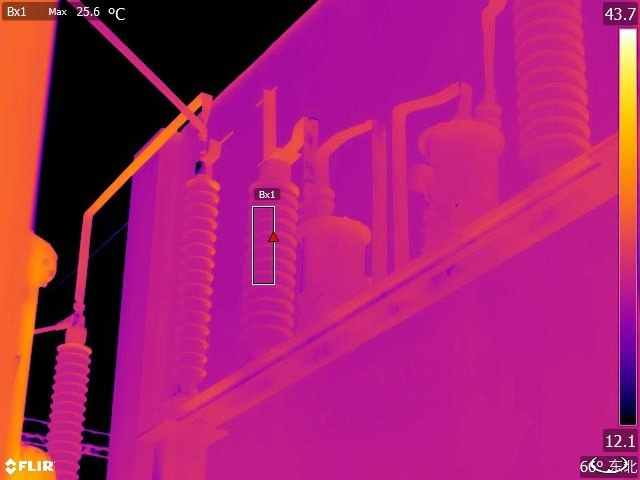post insulator: (230, 173, 300, 368), (506, 1, 594, 152), (168, 172, 223, 397), (42, 334, 95, 480)
